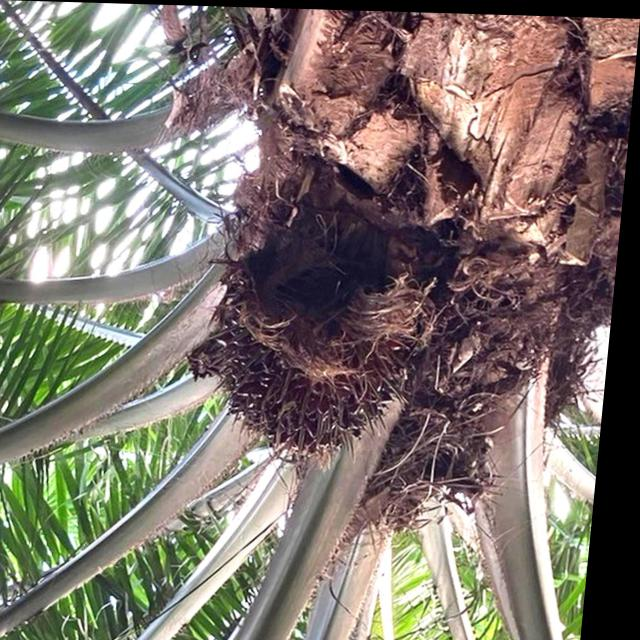ripe: (206, 289, 409, 461)
